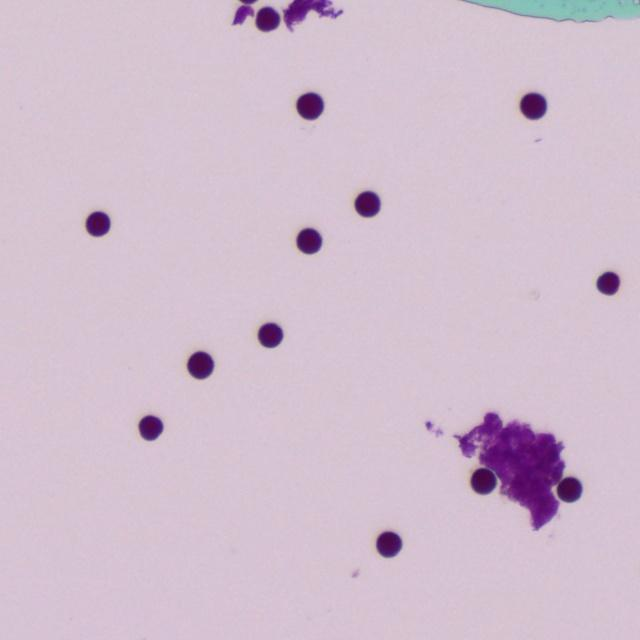viable: (296, 92, 323, 120), (519, 92, 546, 119), (354, 190, 381, 217), (187, 351, 213, 379), (376, 530, 402, 557), (296, 228, 322, 254), (595, 270, 621, 295), (471, 468, 496, 494), (557, 477, 582, 502), (258, 322, 283, 347), (85, 211, 110, 236), (256, 7, 279, 31), (139, 415, 162, 439)
